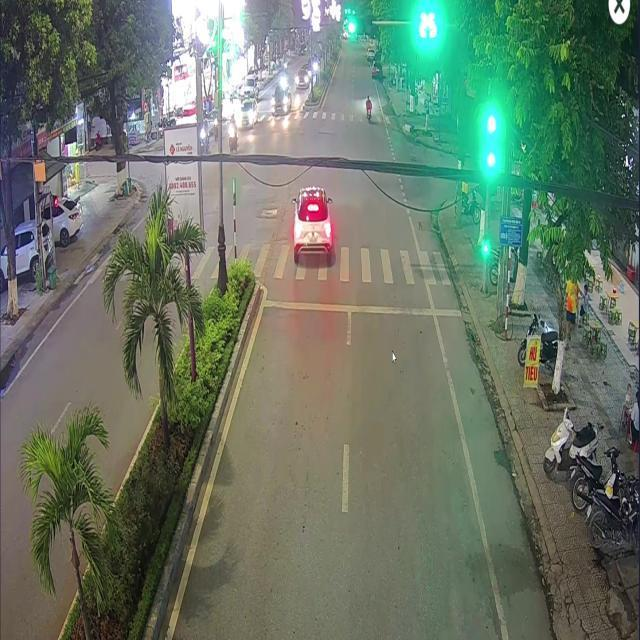car: (291, 186, 332, 262), (371, 60, 382, 77)
green_light: (485, 132, 496, 173), (346, 18, 372, 35), (483, 234, 488, 252)
stop_line: (262, 299, 460, 315)
